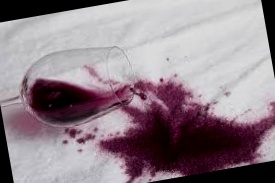wine: (117, 106, 275, 183), (93, 72, 207, 162)
